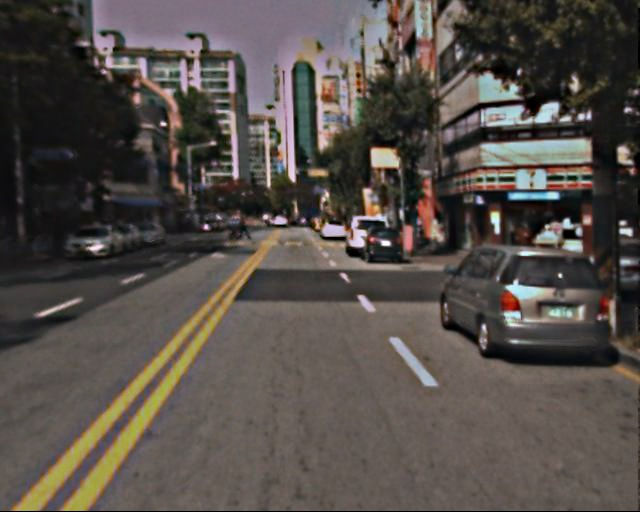person: (512, 214, 537, 270), (239, 214, 251, 244)
